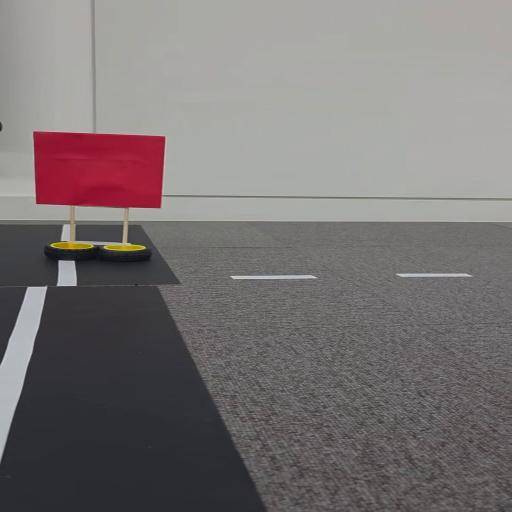Sign_A: (20, 125, 160, 265)
